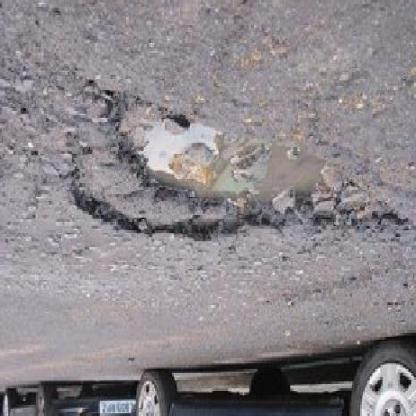pothole: (69, 76, 410, 248)
